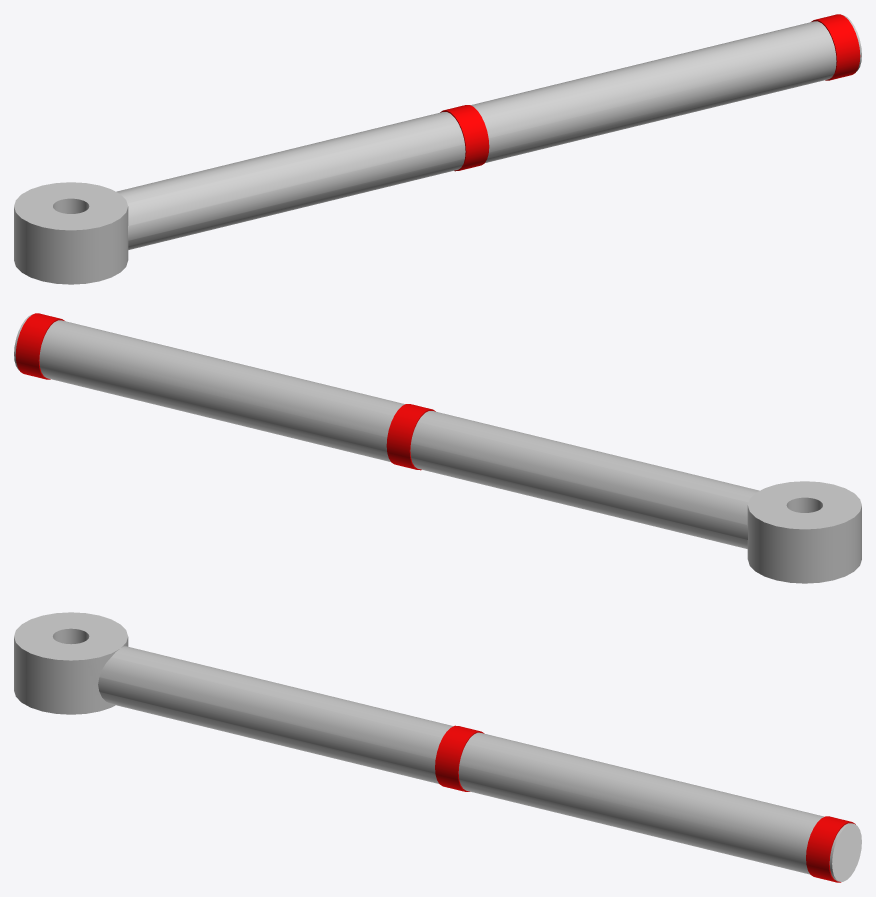
The model's file is rod.dae.
3 renders of one model, top to bottom at view 1: azimuth 30°, elevation 25°; view 2: azimuth 150°, elevation 25°; view 3: azimuth 330°, elevation 25°, orthographic.
Visible parts, largest first — view 1: Rod, Ring (×2); view 2: Rod, Ring (×2); view 3: Rod (×2), Ring (×2).
Part boxes in pixels (<box>): Rod: <box>14,15,861,284</box>; Ring (×2): <box>440,14,860,171</box>; Rod: <box>14,314,861,583</box>; Ring (×2): <box>15,313,435,470</box>; Rod (×2): <box>14,612,861,881</box>; Ring (×2): <box>435,725,855,882</box>.
Size of the model in its own units: 502 by 60.16 by 32.97.
